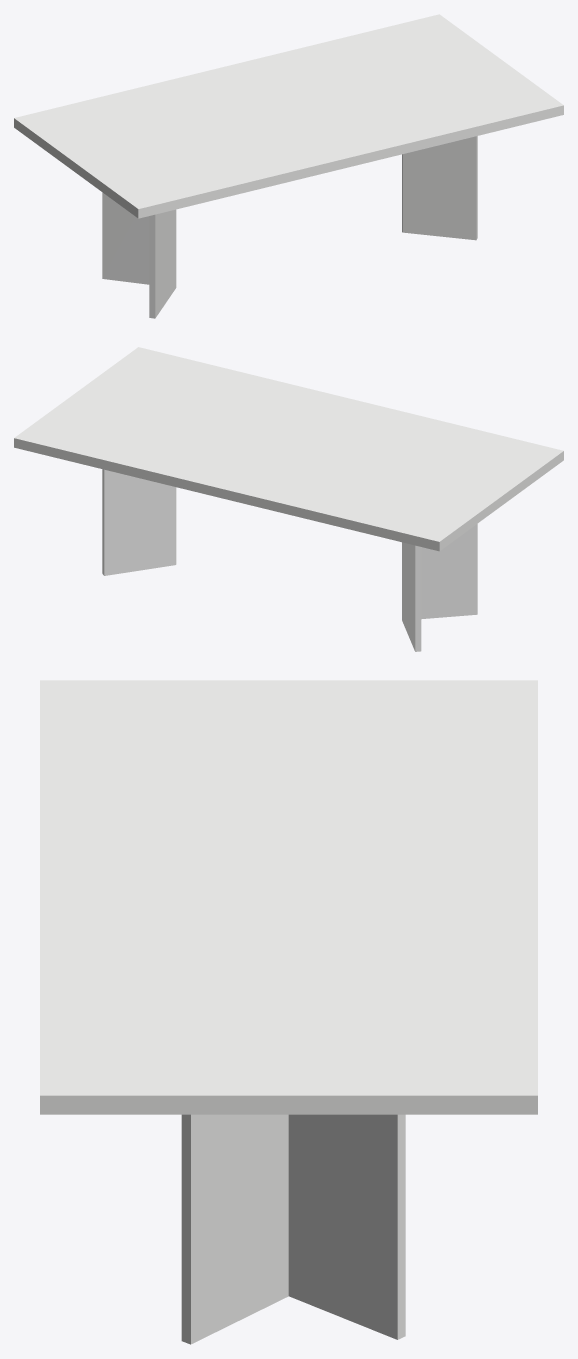
File: purewhite_recta_standard_valleyv.glb
3 views of the same model, one above another, from view 1: azimuth 30°, elevation 25°; view 2: azimuth 150°, elevation 25°; view 3: azimuth 270°, elevation 25° (orthographic). The views are drawn at different scales.
Parts seen in each view (by area): view 1: standard_recta, valleyv; view 2: standard_recta, valleyv; view 3: standard_recta, valleyv.
Boxes of the visible parts, left/top/right/bottom form: standard_recta: left=14, top=14, right=563, bottom=218; valleyv: left=102, top=136, right=477, bottom=318; standard_recta: left=14, top=347, right=563, bottom=551; valleyv: left=102, top=469, right=477, bottom=651; standard_recta: left=40, top=680, right=537, bottom=1114; valleyv: left=181, top=1114, right=405, bottom=1344.
Size of the model in its own units: 7.5 by 2.5 by 3.8.
1 material, 1 textured.
